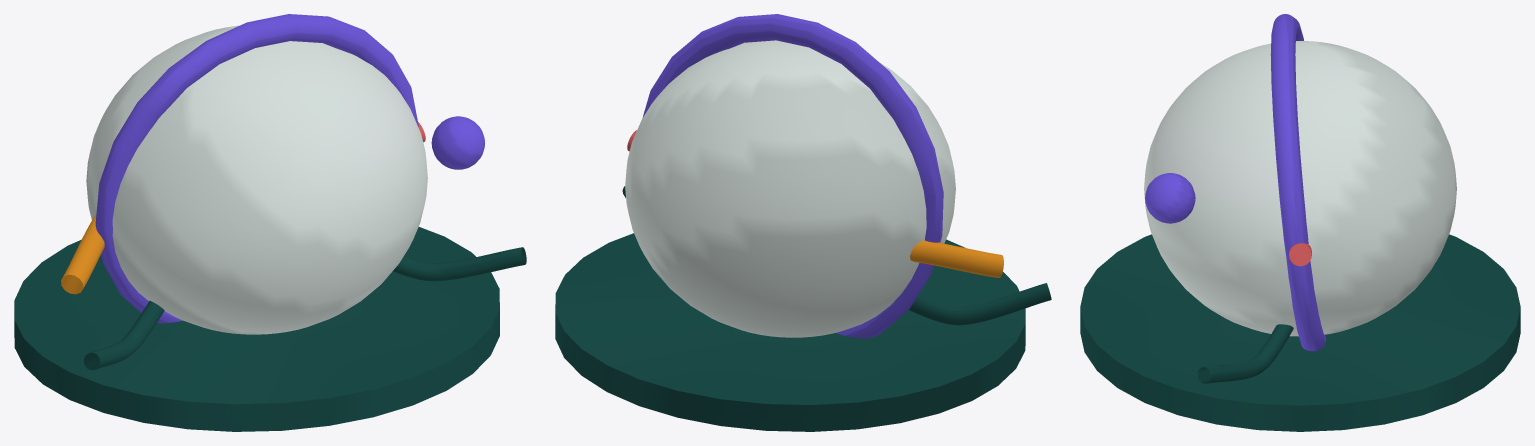
File: 1205_细胞图鉴_细胞膜.glb
The picture shows the model from 3 angles, left to right: view 1: azimuth 30°, elevation 25°; view 2: azimuth 150°, elevation 25°; view 3: azimuth 270°, elevation 25°; orthographic projection. The views are drawn at different scales.
Visible parts, largest first — view 1: card_1205; view 2: card_1205; view 3: card_1205.
Part boxes in pixels (bbox=[...]): card_1205: bbox=[14, 14, 526, 431]; card_1205: bbox=[555, 14, 1051, 431]; card_1205: bbox=[1080, 14, 1520, 431].
Size of the model in its own units: 1.42 by 1 by 1.3.
